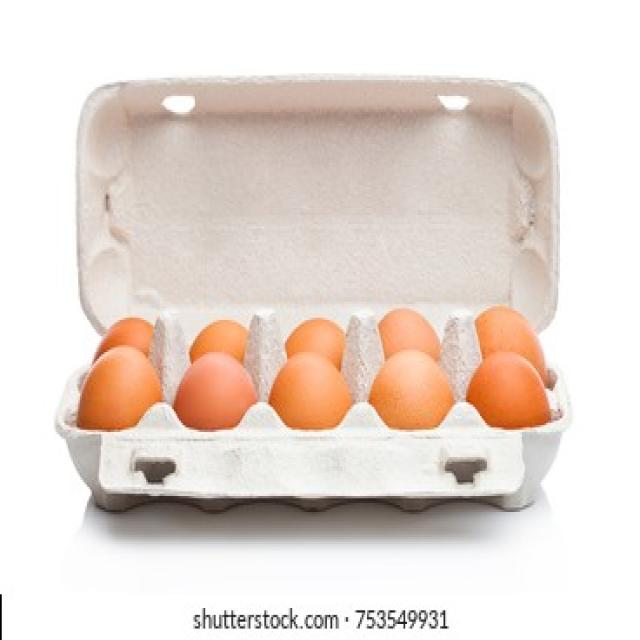Brown Egg: (75, 342, 168, 432), (366, 343, 452, 434), (468, 337, 550, 430), (175, 350, 256, 425), (270, 351, 351, 424)
